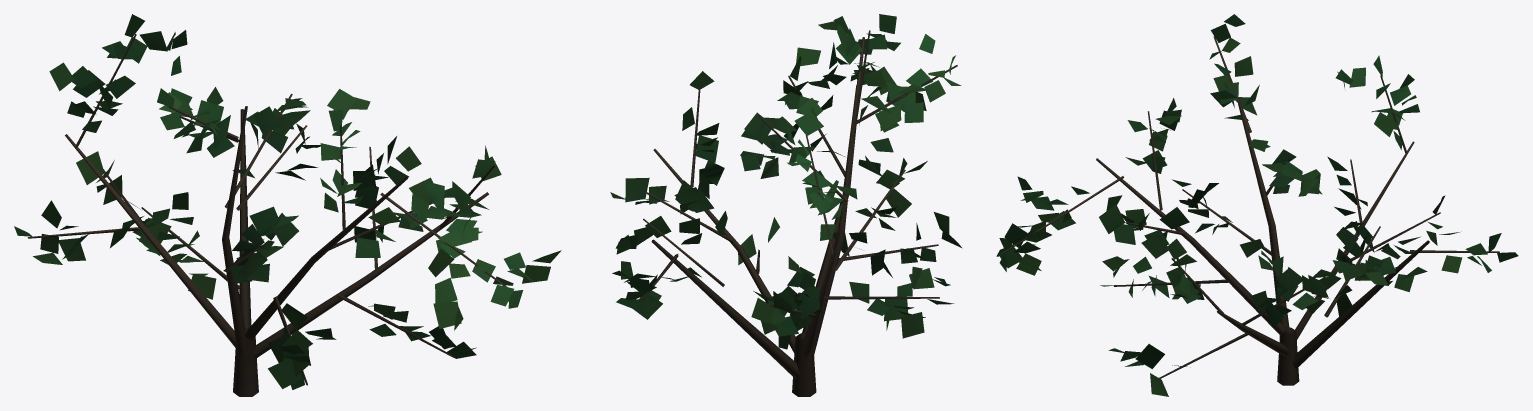
Rendered from bush-holly-b.lod1.glb.
The picture shows the model from 3 angles, left to right: view 1: azimuth 30°, elevation 25°; view 2: azimuth 150°, elevation 25°; view 3: azimuth 270°, elevation 25°; orthographic projection. The views are drawn at different scales.
Visible parts, largest first — view 1: bush-holly-b.lod1; view 2: bush-holly-b.lod1; view 3: bush-holly-b.lod1.
Boxes of the visible parts, x1,y1,x2,y2 form: bush-holly-b.lod1: (14,14,561,396); bush-holly-b.lod1: (610,14,962,396); bush-holly-b.lod1: (996,14,1518,396).
Bounding box in the file's own units: 1.25 × 1.17 × 1.69.
